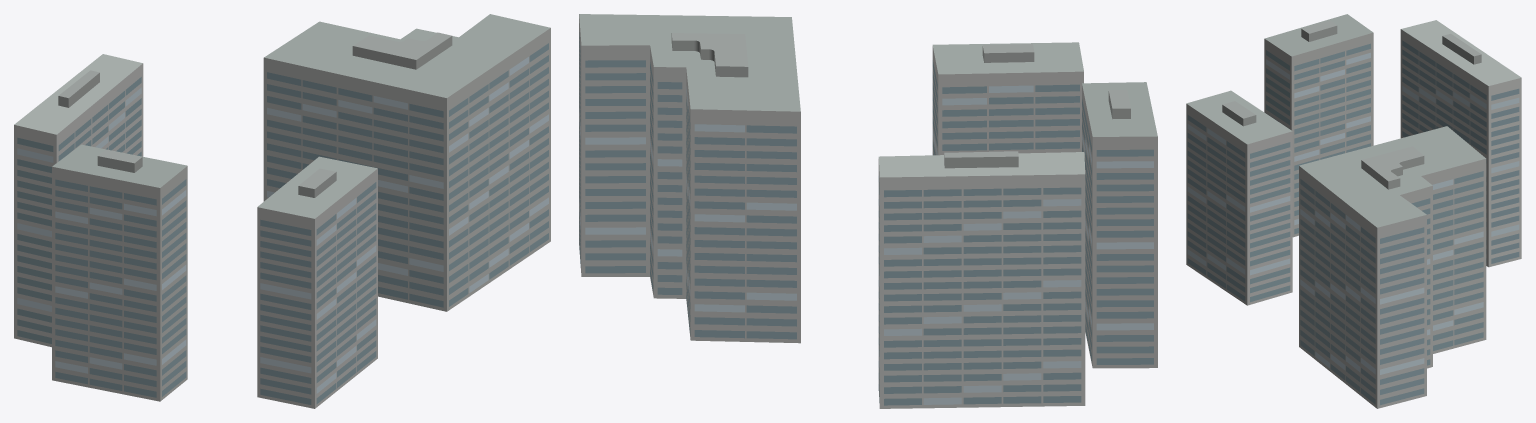
Rendered from apt-a13613003.glb.
The picture shows the model from 3 angles, left to right: view 1: azimuth 30°, elevation 25°; view 2: azimuth 150°, elevation 25°; view 3: azimuth 270°, elevation 25°; orthographic projection. The views are drawn at different scales.
Visible parts, largest first — view 1: apt-a13613003; view 2: apt-a13613003; view 3: apt-a13613003.
Part boxes in pixels (x1,y1,x2,y2): apt-a13613003: (14,14,550,408); apt-a13613003: (579,14,1157,408); apt-a13613003: (1186,14,1521,408).
Bounding box in the file's own units: 133 × 55 × 88.31.
